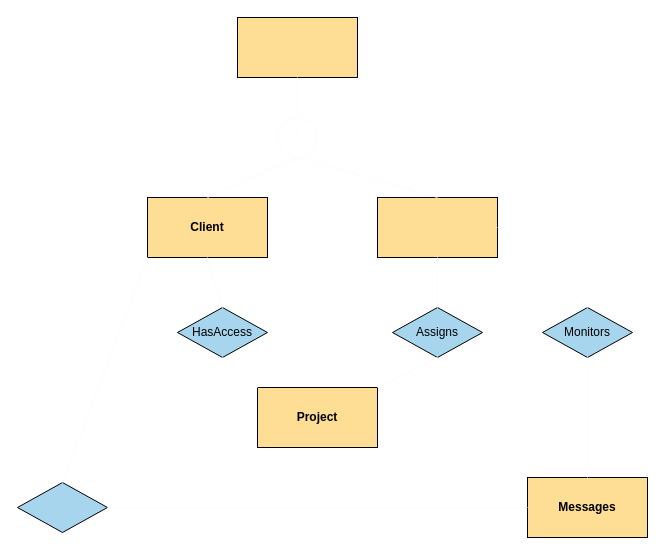
The diagram is 665 pixels wide and 555 high, and some of its shapes have lost their labels. The shapes that lost their labels are listed below. From the top down, each one's centre as x and y in pixels, then its label:
At point (297, 47): "Users".
At point (437, 227): "Admin".
At point (62, 507): "Sends".
